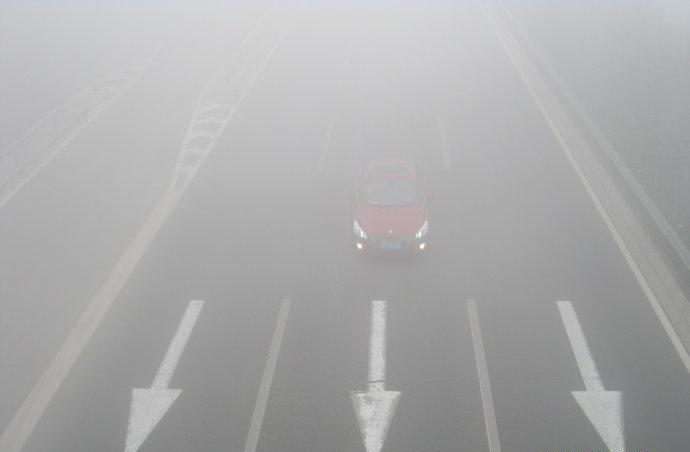car: (348, 161, 435, 262)
